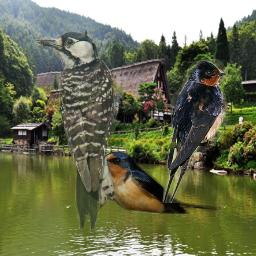Swallow: (160, 59, 228, 203), (97, 152, 222, 214)
Woodpecker: (34, 31, 136, 237)
